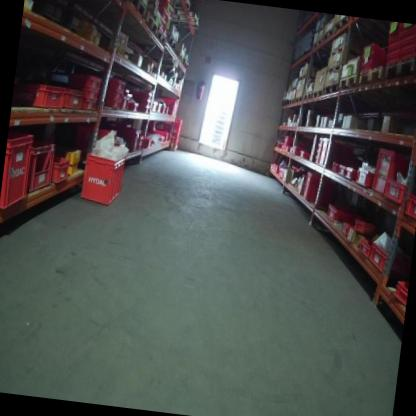pallet: (383, 52, 416, 85), (357, 61, 385, 89), (338, 70, 359, 93), (127, 0, 147, 20), (143, 11, 159, 36), (334, 14, 349, 34), (323, 82, 340, 97), (156, 29, 167, 47), (323, 27, 334, 42), (166, 36, 177, 50), (313, 87, 324, 100), (313, 38, 322, 49), (303, 92, 313, 101), (176, 53, 185, 62), (295, 93, 303, 103), (287, 97, 295, 106)
small_load_carrier: (0, 129, 37, 210), (76, 149, 126, 207), (369, 148, 408, 199), (27, 137, 57, 194), (315, 137, 356, 176), (17, 78, 64, 110), (367, 241, 400, 275), (300, 171, 331, 206), (55, 85, 86, 112), (51, 151, 72, 189), (383, 180, 409, 208), (62, 71, 102, 89), (118, 124, 139, 152), (155, 93, 178, 117), (353, 164, 374, 189), (325, 207, 351, 227), (385, 33, 405, 58), (355, 236, 376, 257), (397, 44, 416, 67), (392, 278, 408, 304), (123, 84, 155, 97), (399, 32, 416, 56), (341, 162, 359, 184), (121, 102, 151, 115), (403, 194, 416, 223), (122, 93, 153, 105), (354, 218, 376, 234), (102, 98, 122, 115), (106, 75, 127, 91), (388, 21, 405, 37), (83, 87, 101, 101), (104, 89, 125, 100), (382, 53, 398, 66), (81, 99, 97, 111), (403, 23, 416, 36), (330, 159, 340, 174), (336, 166, 347, 179)
